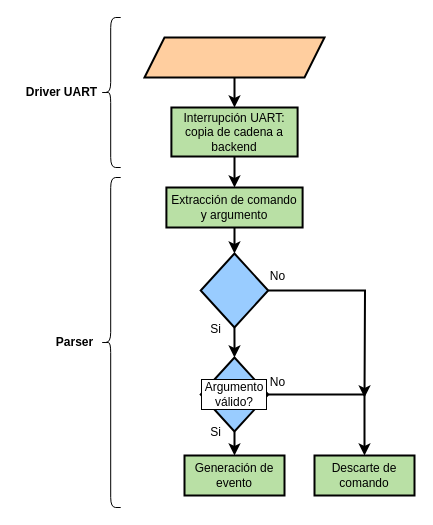
The diagram is 433 pixels wide and 525 high, and some of its shapes have lost their labels. The box of each missing label's shape, as (x1, y1, x2, y2) in pixels:
Comando válido?: (199, 252, 269, 328)
Recepción de cadena de caracteres en buffer UART: (143, 36, 325, 78)
